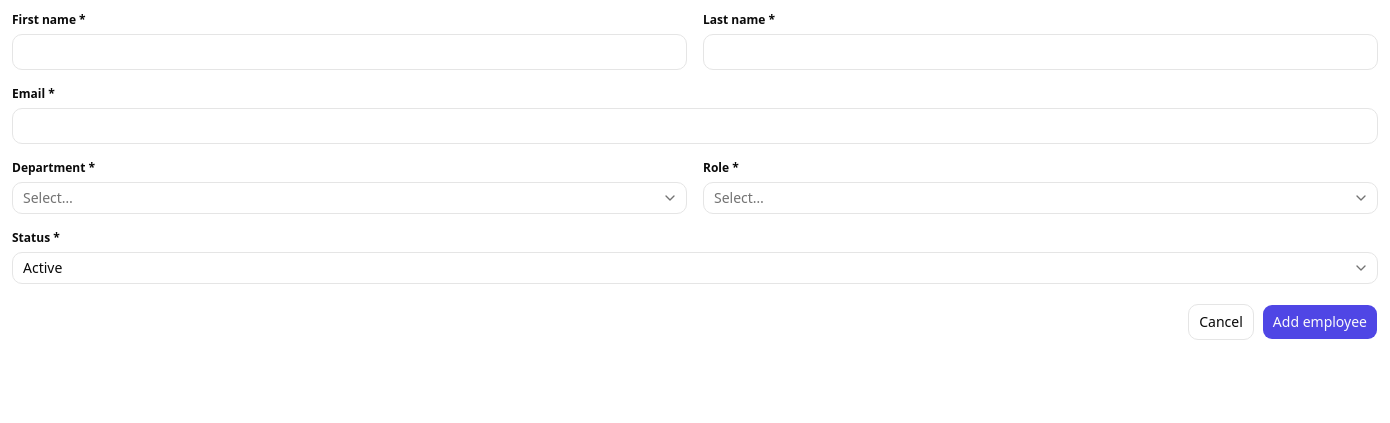
EmployeeForm › clears text-field errors once valid input is entered
Click the button "Add employee": coordinates (1320, 322) x1=1262 y1=304 x2=1378 y2=340
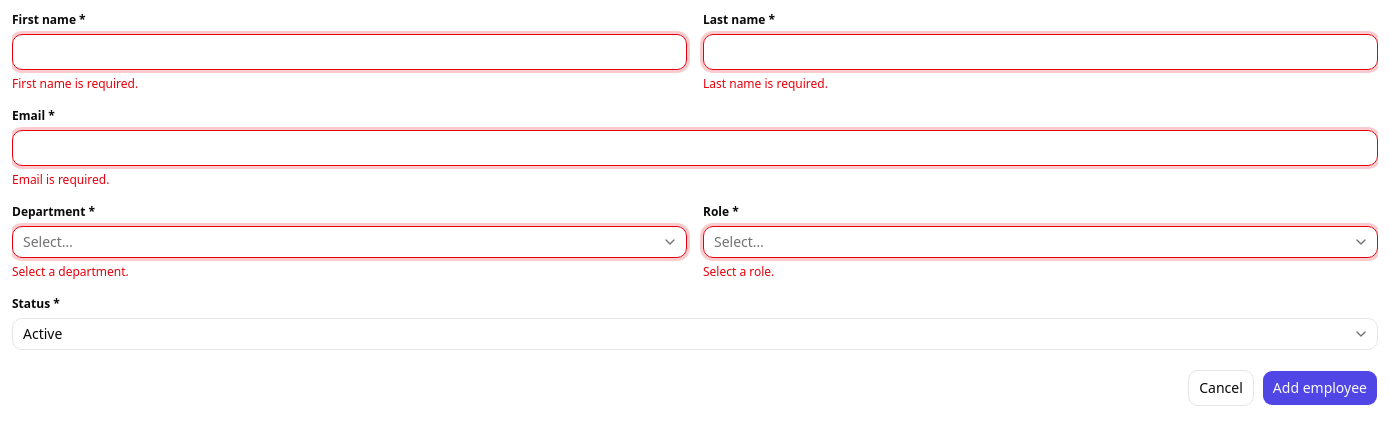
Now the text "First name is required." is shown, box x1=12 y1=75 x2=138 y2=92
In the field labelled "First name *": coordinates (350, 52) x1=12 y1=34 x2=687 y2=70, type "Jane"
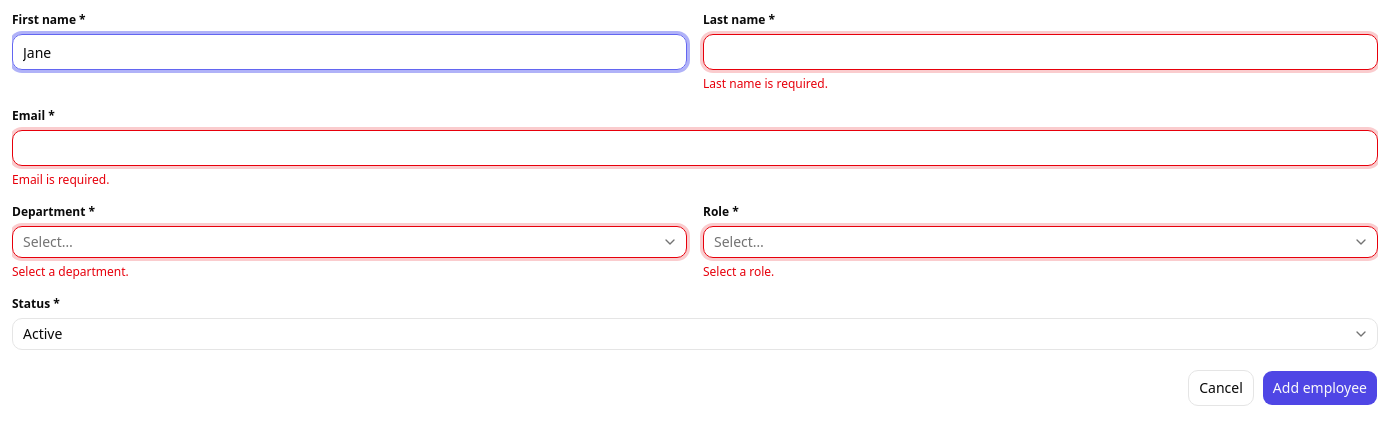
In the field labelled "Last name *": coordinates (1040, 52) x1=703 y1=34 x2=1378 y2=70, type "Doe"
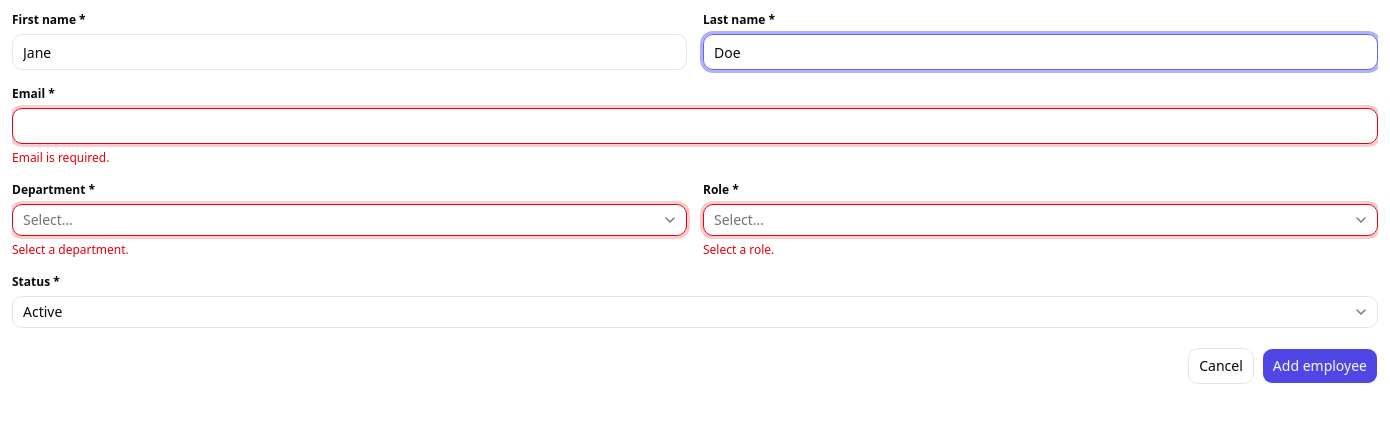
In the field labelled "Email *": coordinates (695, 126) x1=12 y1=108 x2=1378 y2=144, type "jane@example.com"
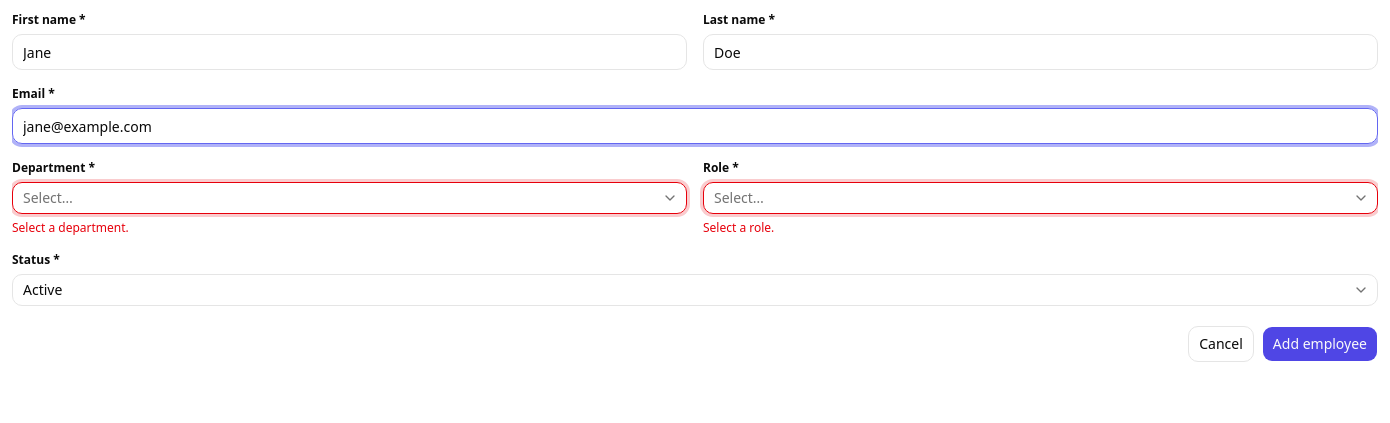
Expected: the text "First name is required." is not shown
Now the text "Select a department." is shown, box x1=12 y1=219 x2=129 y2=236
Now the text "Email is required." is gone
